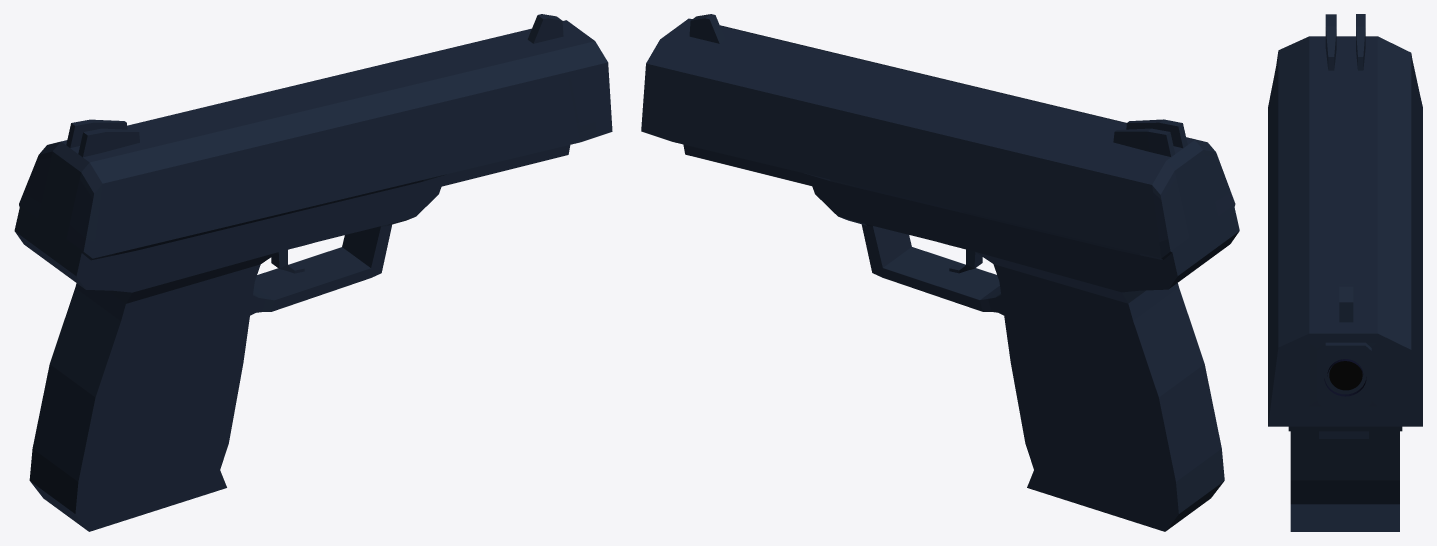
File: pistol.fbx
3 views of the same model, side by side, from view 1: azimuth 30°, elevation 25°; view 2: azimuth 150°, elevation 25°; view 3: azimuth 270°, elevation 25° (orthographic). The views are drawn at different scales.
Visible parts, largest first — view 1: Gun; view 2: Gun; view 3: Gun, Tube, Tube outline.
Part boxes in pixels (<box>): Gun: <box>14,14,612,531</box>; Gun: <box>641,14,1239,531</box>; Gun: <box>1268,14,1422,531</box>; Tube: <box>1329,361,1362,390</box>; Tube outline: <box>1324,359,1366,396</box>.
Size of the model in its own units: 534 by 359 by 110.
